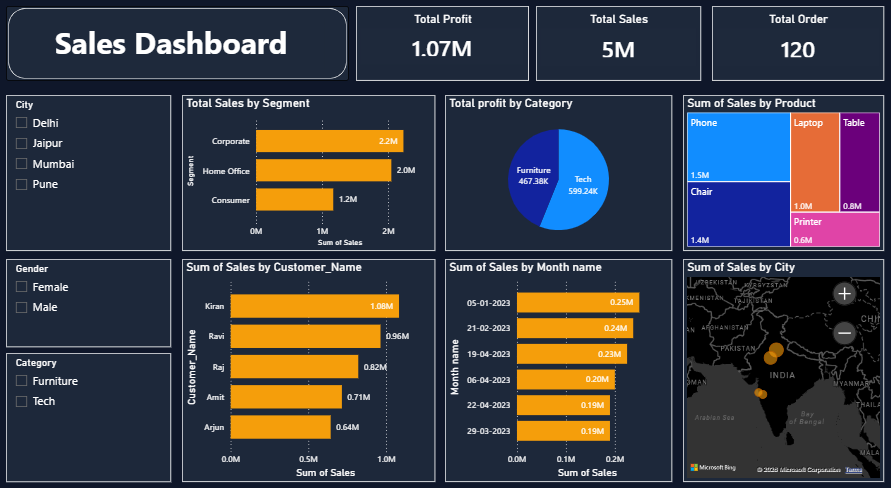

The page's visual inventory and layout, read from the dashboard file:
{"tool":"powerbi","page":{"name":"Page 1","canvas":[1280,720],"ordinal":0},"visuals":[{"type":"barChart","title":"Total Sales by Segment","fields":{"Category":["Sales_Data.Segment"],"Y":["Sum(Sales_Data.Sales)"]},"box":[266.5,138.9,358.6,221.1],"z":0},{"type":"barChart","fields":{"Category":["Sales_Data.Customer_Name"],"Y":["Sum(Sales_Data.Sales)"]},"box":[266.5,371.3,358.6,316.1],"z":1000},{"type":"clusteredBarChart","fields":{"Category":["Sales_Data.Month name"],"Y":["Sum(Sales_Data.Sales)"]},"box":[639.2,371.3,321.7,316.1],"z":2000},{"type":"map","fields":{"Category":["Customer_Data.City"],"Size":["Sum(Sales_Data.Sales)"]},"box":[976.5,371.3,284.9,316.1],"z":3000},{"type":"pieChart","title":"Total profit by Category","fields":{"Category":["Sales_Data.Category"],"Y":["Sales_Data.Total_profit"]},"box":[639.2,138.9,321.7,221.1],"z":4000},{"type":"slicer","fields":{"Values":["Sales_Data.City"]},"box":[17,138.9,233.9,221.1],"z":5000},{"type":"slicer","fields":{"Values":["Sales_Data.Category"]},"box":[17,504.6,233.9,182.8],"z":6000},{"type":"slicer","fields":{"Values":["Customer_Data.Gender"]},"box":[17,371.3,233.9,124.7],"z":7000},{"type":"cardVisual","title":"Total Profit","fields":{"Data":["Sum(Sales_Data.Profit)"]},"box":[513.1,12.8,245.2,106.3],"z":8000},{"type":"cardVisual","title":"Total Sales","fields":{"Data":["Sales_Data.Total_Sales"]},"box":[768.2,12.8,233.9,106.3],"z":9000},{"type":"cardVisual","title":"Total Order","fields":{"Data":["Sales_Data.Total_orders"]},"box":[1017.6,12.8,243.8,106.3],"z":10000},{"type":"shape","box":[17,12.8,486.1,106.3],"z":11000},{"type":"textbox","box":[34,29.8,433.7,72.3],"z":12000},{"type":"treemap","fields":{"Group":["Sales_Data.Product"],"Values":["Sum(Sales_Data.Sales)"]},"box":[976.5,138.9,284.9,221.1],"z":13000}]}

Visuals, with their boxes in screenshot pixels (x1, y1, x2, y2), scaled from the page's 1280x720 canvas onto the 891x488 screenshot:
"Total Sales by Segment" barChart: (186,94,435,244)
barChart - Sales_Data.Customer_Name x Sum(Sales_Data.Sales): (186,252,435,466)
clusteredBarChart - Sales_Data.Month name x Sum(Sales_Data.Sales): (445,252,669,466)
map - Customer_Data.City x Sum(Sales_Data.Sales): (680,252,878,466)
"Total profit by Category" pieChart: (445,94,669,244)
slicer - Sales_Data.City: (12,94,175,244)
slicer - Sales_Data.Category: (12,342,175,466)
slicer - Customer_Data.Gender: (12,252,175,336)
"Total Profit" cardVisual: (357,9,528,81)
"Total Sales" cardVisual: (535,9,698,81)
"Total Order" cardVisual: (708,9,878,81)
shape: (12,9,350,81)
textbox: (24,20,326,69)
treemap - Sales_Data.Product x Sum(Sales_Data.Sales): (680,94,878,244)
